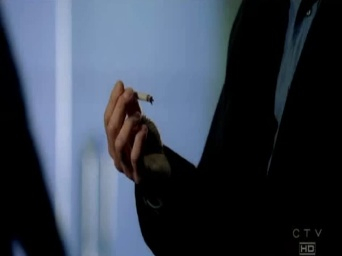smoke: (125, 88, 153, 103)
